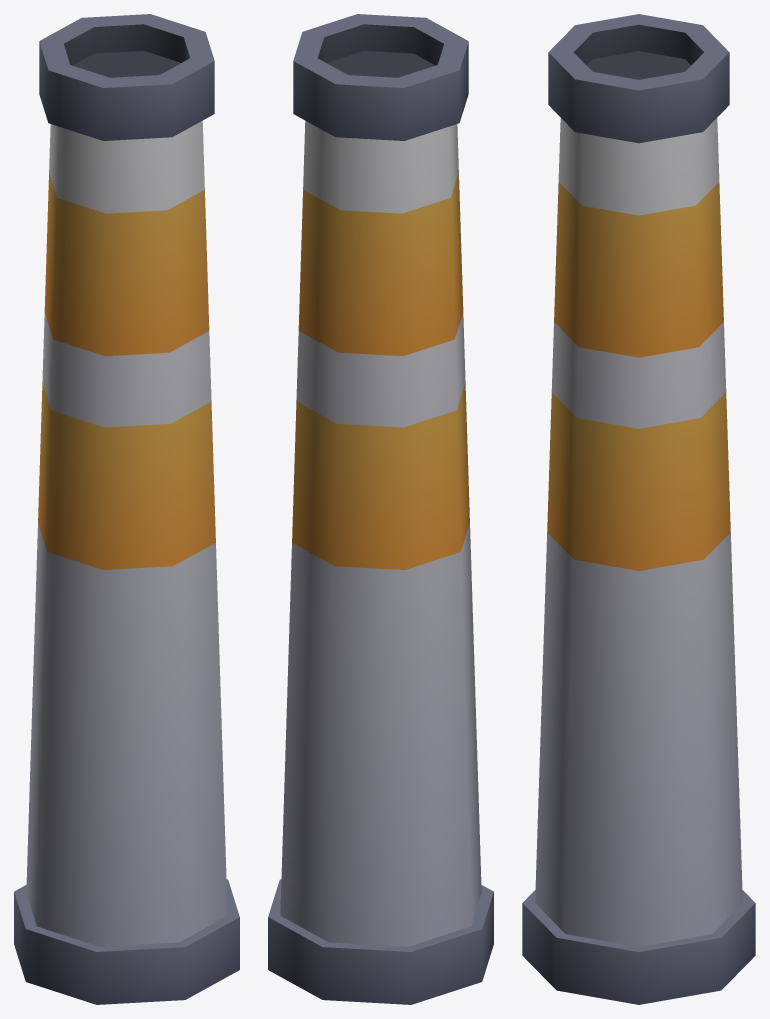
The model's file is chimney-medium.glb.
3 views of the same model, side by side, from view 1: azimuth 30°, elevation 25°; view 2: azimuth 150°, elevation 25°; view 3: azimuth 270°, elevation 25° (orthographic).
Parts seen in each view (by area): view 1: chimney-medium; view 2: chimney-medium; view 3: chimney-medium.
Boxes of the visible parts, <box> form: chimney-medium: <box>14,14,239,1004</box>; chimney-medium: <box>268,14,493,1004</box>; chimney-medium: <box>522,14,755,1004</box>.
Bounding box in the file's own units: 0.45 × 1.92 × 0.45.
